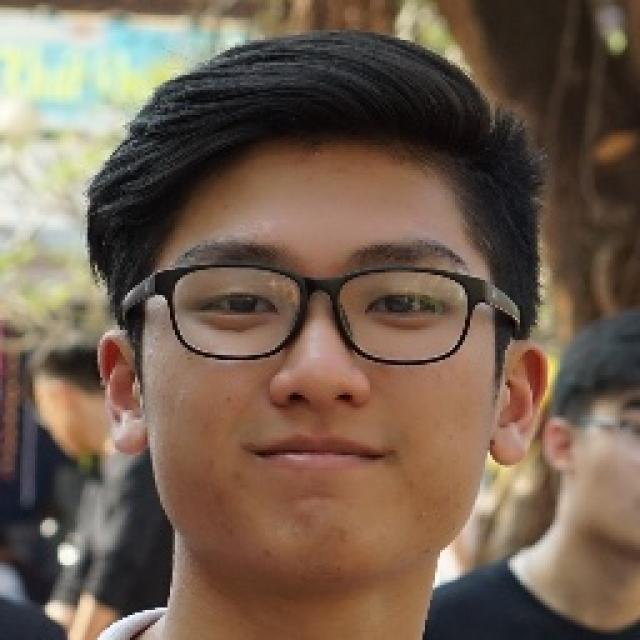earlobe: (490, 341, 550, 466), (96, 329, 151, 455)
